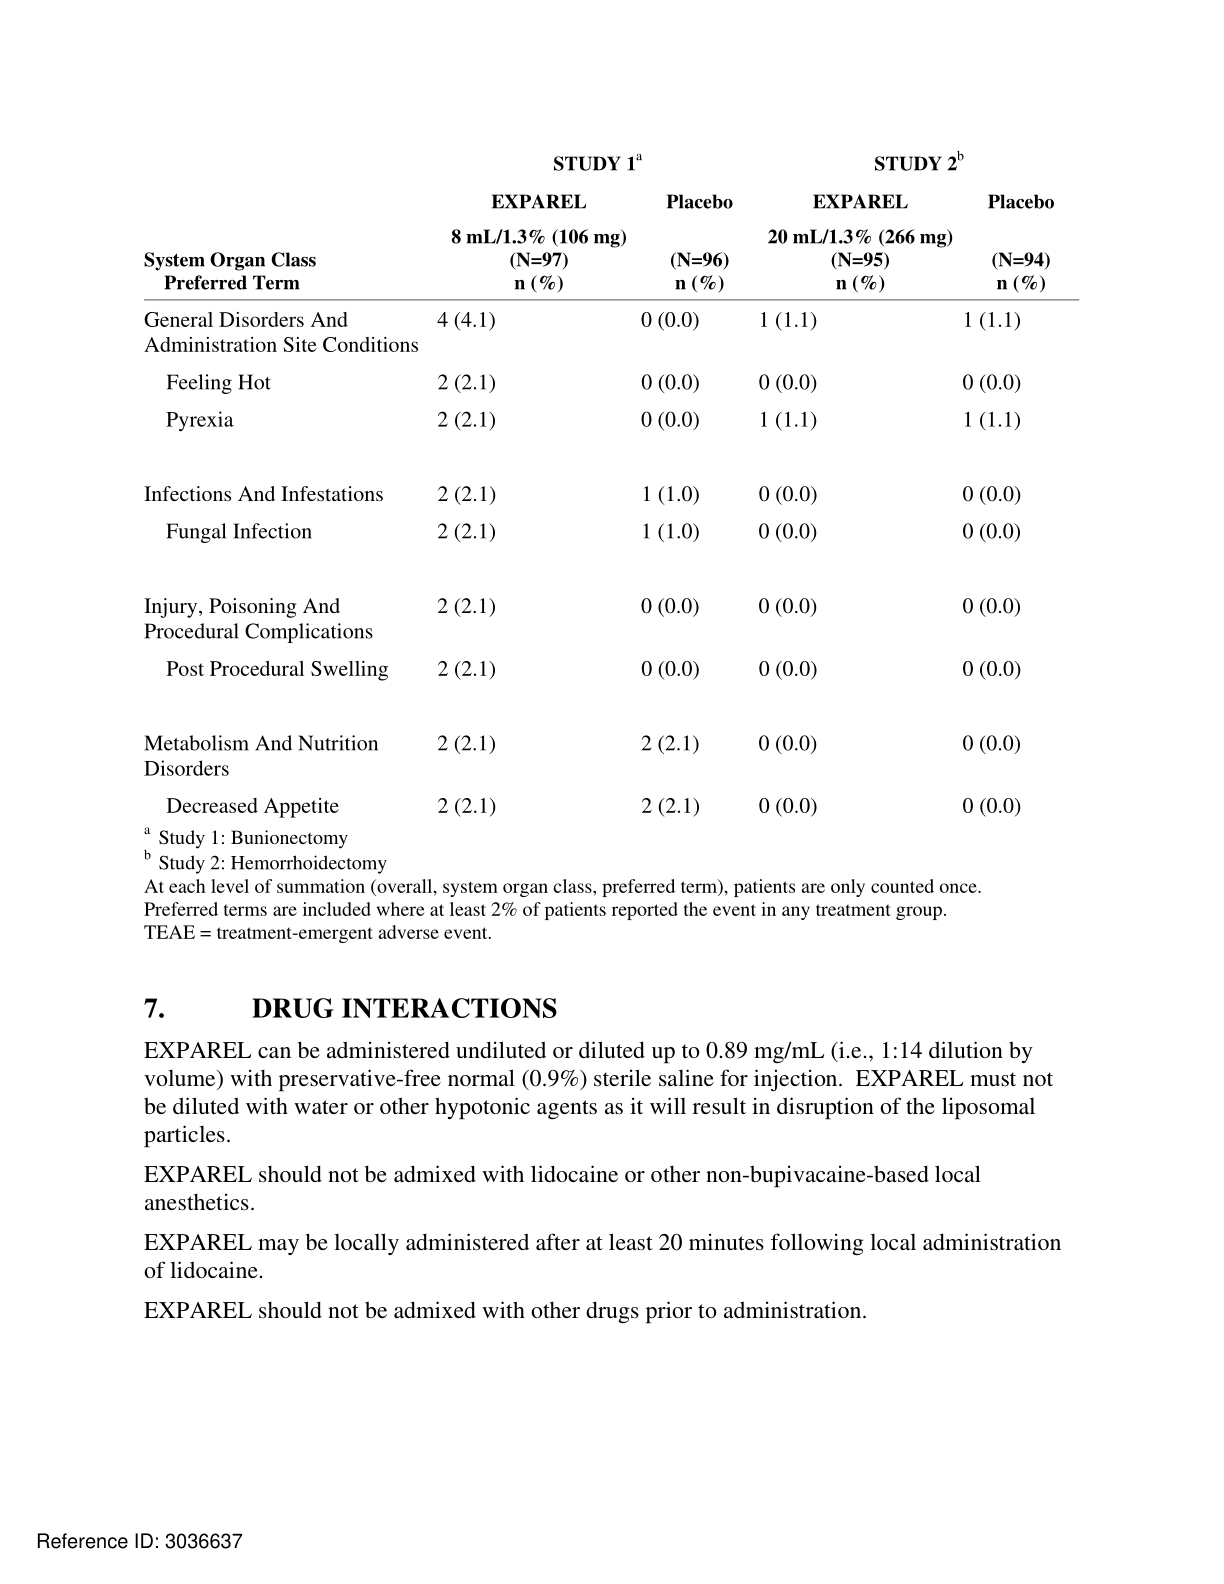partial_lined_merged_cells: (138, 144, 1083, 823)
